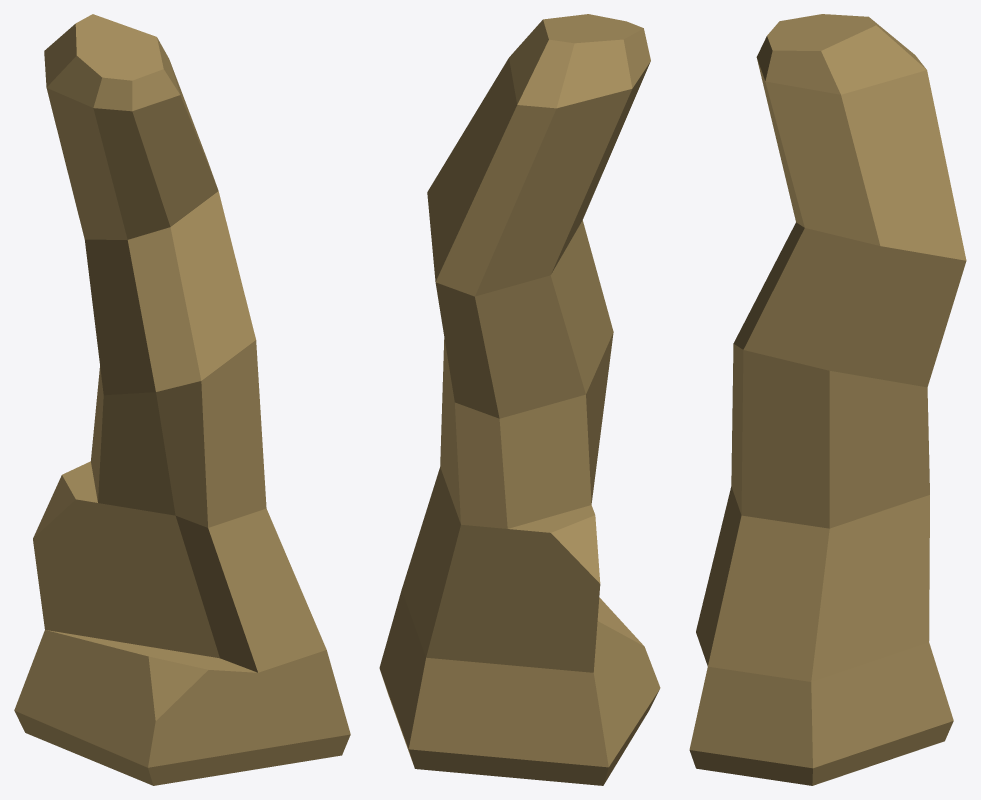
The model's file is WeatheredStone2.fbx.
3 renders of one model, left to right at view 1: azimuth 30°, elevation 25°; view 2: azimuth 150°, elevation 25°; view 3: azimuth 270°, elevation 25°, orthographic. The views are drawn at different scales.
Visible parts, largest first — view 1: Circle.014; view 2: Circle.014; view 3: Circle.014.
Part boxes in pixels (x1,y1,x2,y2): Circle.014: (14, 14, 350, 785); Circle.014: (379, 14, 660, 785); Circle.014: (689, 14, 966, 785).
Bounding box in the file's own units: 847 × 2145 × 801.
